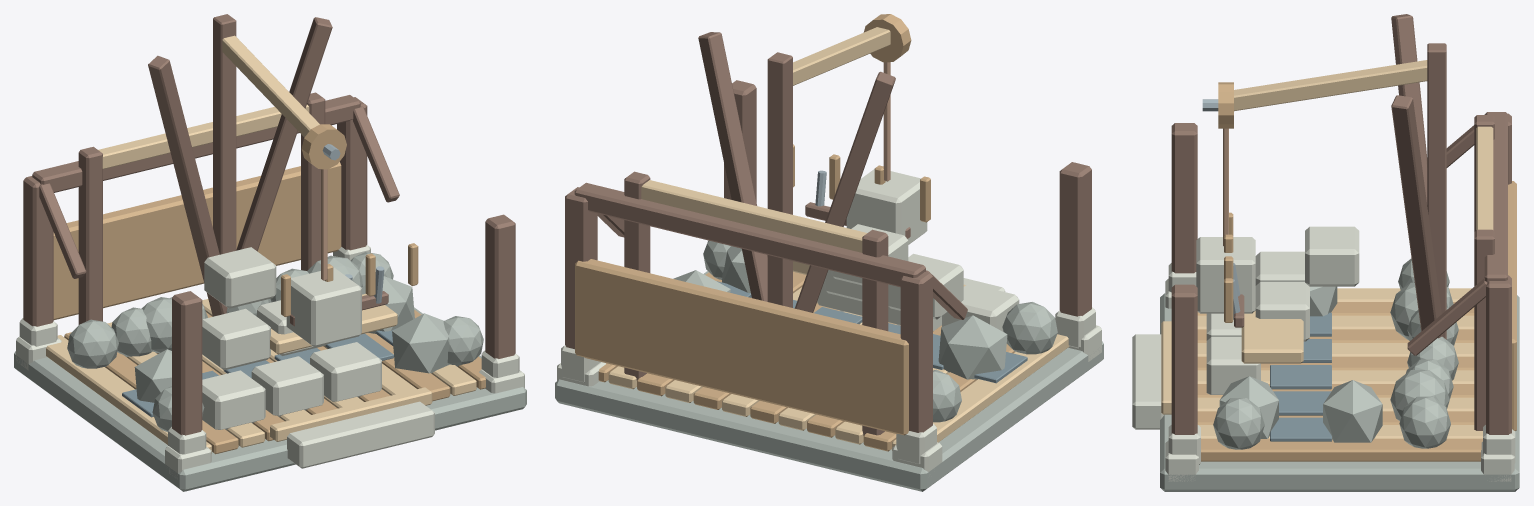
File: stone_prep.fbx
3 renders of one model, left to right at view 1: azimuth 30°, elevation 25°; view 2: azimuth 150°, elevation 25°; view 3: azimuth 270°, elevation 25°, orthographic. The views are drawn at different scales.
Visible parts, largest first — view 1: stone_prep_mesh; view 2: stone_prep_mesh; view 3: stone_prep_mesh.
Part boxes in pixels (bbox=[...]): stone_prep_mesh: bbox=[14, 14, 526, 491]; stone_prep_mesh: bbox=[555, 14, 1103, 491]; stone_prep_mesh: bbox=[1132, 14, 1519, 491].
Bounding box in the file's own units: 3.28 × 3.05 × 3.
